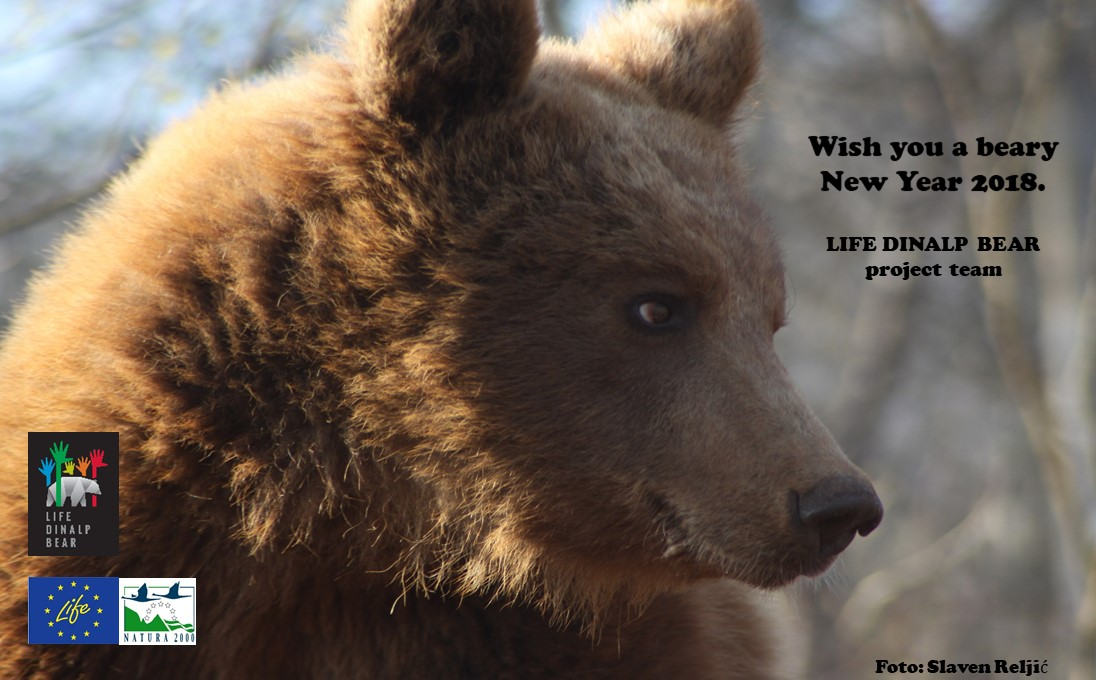bear: (329, 1, 888, 593)
